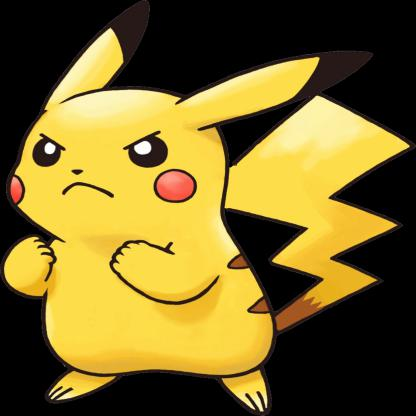Pikachu: (3, 1, 416, 416)
